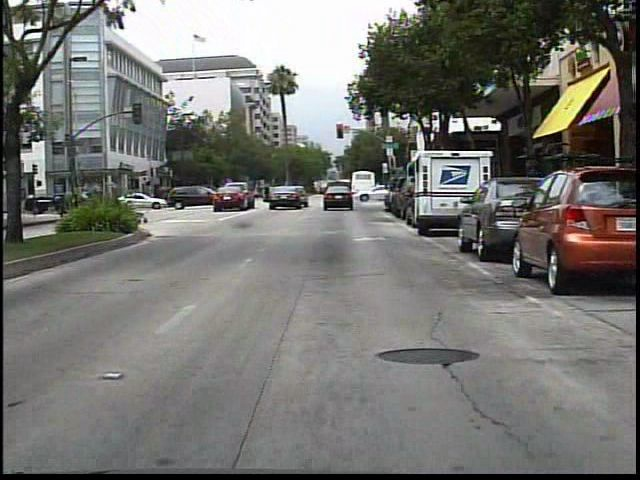person: (514, 150, 545, 235), (268, 182, 269, 206)
